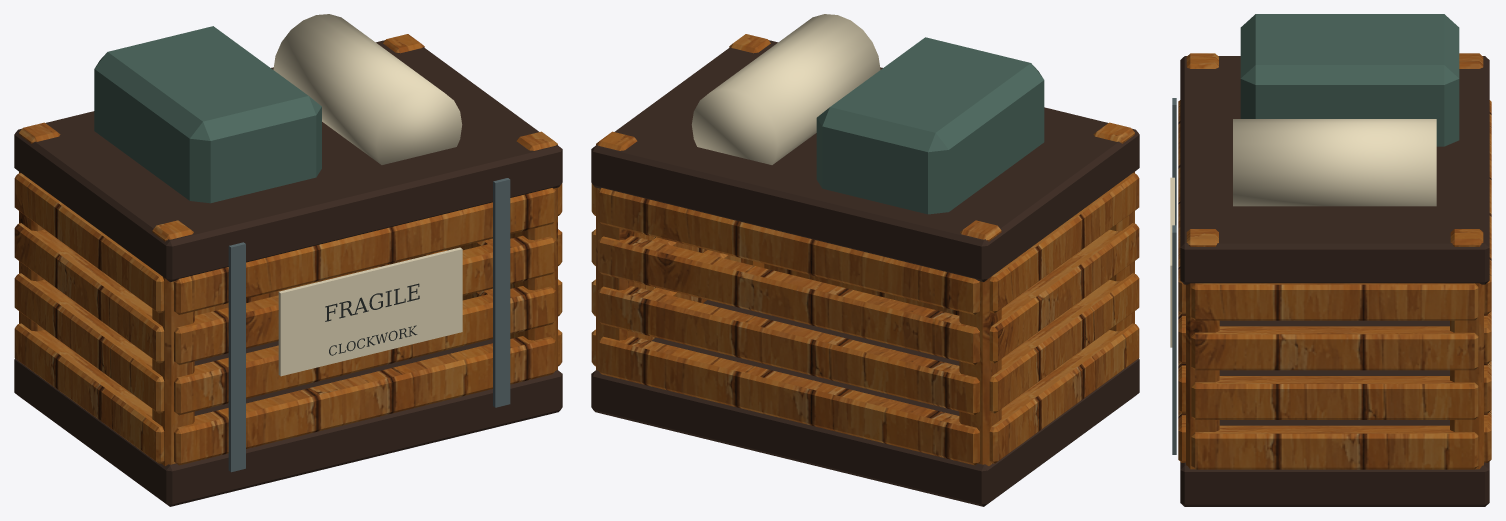
The picture shows the model from 3 angles, left to right: view 1: azimuth 30°, elevation 25°; view 2: azimuth 150°, elevation 25°; view 3: azimuth 270°, elevation 25°; orthographic projection.
Visible parts, largest first — view 1: clockshop_walnut, clockshop_darkwood, clockshop_ivory, clockshop_felt, clockshop_steel, clockshop_ink; view 2: clockshop_walnut, clockshop_darkwood, clockshop_felt, clockshop_ivory; view 3: clockshop_walnut, clockshop_darkwood, clockshop_felt, clockshop_ivory, clockshop_steel.
Part boxes in pixels (<box>): clockshop_walnut: <box>14,34,562,465</box>; clockshop_darkwood: <box>14,40,562,506</box>; clockshop_ivory: <box>273,14,462,376</box>; clockshop_felt: <box>94,26,321,203</box>; clockshop_steel: <box>228,178,510,472</box>; clockshop_ink: <box>325,283,419,355</box>; clockshop_walnut: <box>591,34,1139,465</box>; clockshop_darkwood: <box>591,40,1139,506</box>; clockshop_felt: <box>816,37,1044,214</box>; clockshop_ivory: <box>691,14,880,164</box>; clockshop_walnut: <box>1178,53,1491,469</box>; clockshop_darkwood: <box>1180,56,1489,506</box>; clockshop_felt: <box>1240,14,1459,146</box>; clockshop_ivory: <box>1170,119,1436,347</box>; clockshop_steel: <box>1172,98,1176,454</box>.
Bounding box in the file's own units: 1.23 × 0.99 × 0.856.
Materials: 6 (1 with a texture image).
